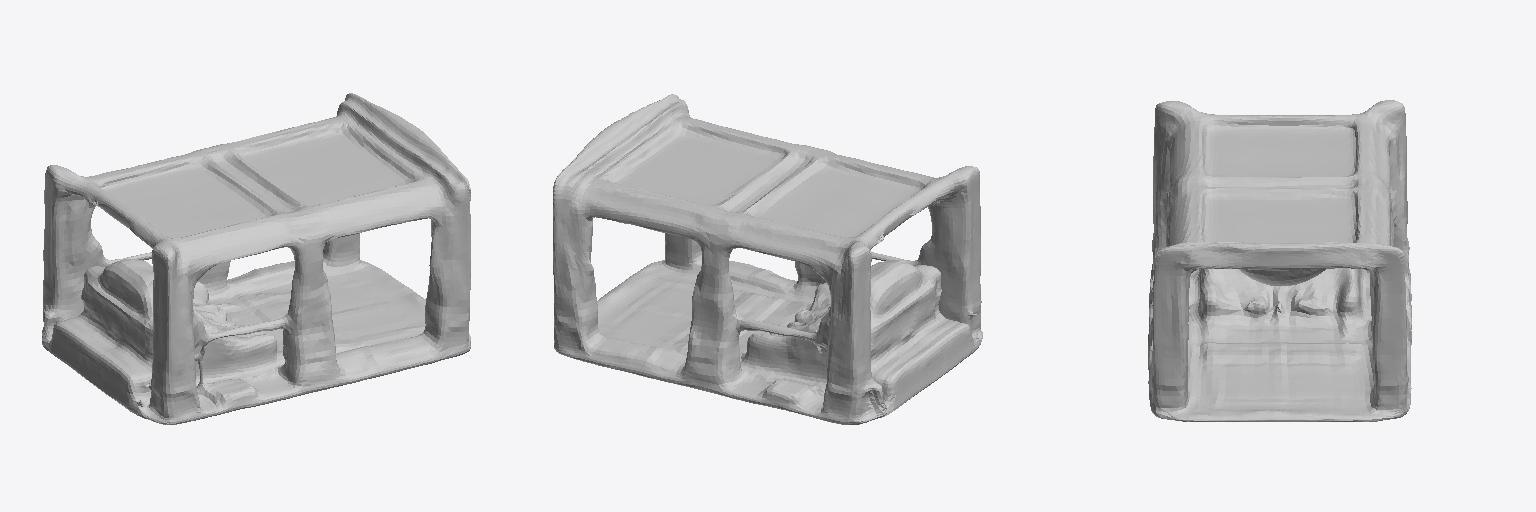
The model's file is bbb738f8683c_a_militaristic_plat.obj.
The picture shows the model from 3 angles: view 1: azimuth 30°, elevation 25°; view 2: azimuth 150°, elevation 25°; view 3: azimuth 270°, elevation 25°; orthographic projection.
Visible parts, largest first — view 1: mesh; view 2: mesh; view 3: mesh.
Part boxes in pixels (x1,y1,x2,y2): mesh: (42, 93, 470, 424); mesh: (553, 94, 982, 424); mesh: (1148, 100, 1411, 421).
Bounding box in the file's own units: 0.9982 × 0.5091 × 0.6828.